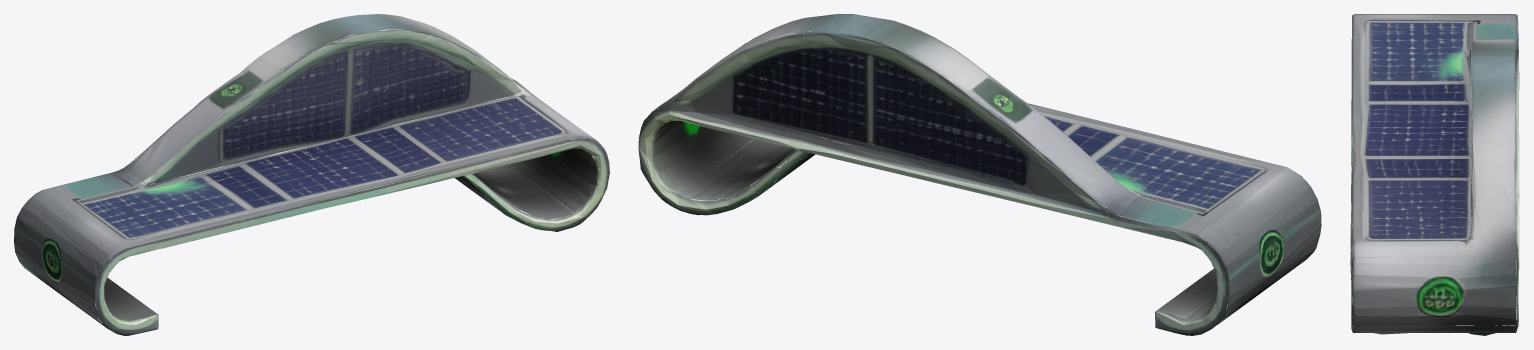
The model's file is bridge.glb.
3 renders of one model, left to right at view 1: azimuth 30°, elevation 25°; view 2: azimuth 150°, elevation 25°; view 3: azimuth 270°, elevation 25°, orthographic. The views are drawn at different scales.
Parts seen in each view (by area): view 1: world.1256; view 2: world.1256; view 3: world.1256.
Boxes of the visible parts, left/top/right/bottom form: world.1256: left=14, top=14, right=609, bottom=335; world.1256: left=638, top=14, right=1321, bottom=335; world.1256: left=1350, top=14, right=1519, bottom=335.
Size of the model in its own units: 1 by 0.362 by 0.2784.
Materials: 1 (1 with a texture image).
